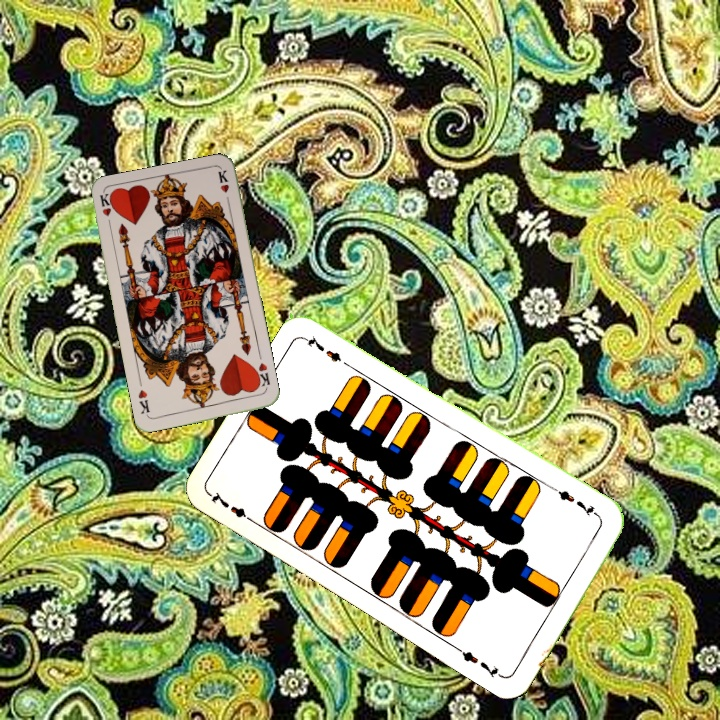E7: (206, 487, 259, 527), (550, 484, 604, 522)
HK: (95, 190, 116, 231), (250, 359, 273, 393)
